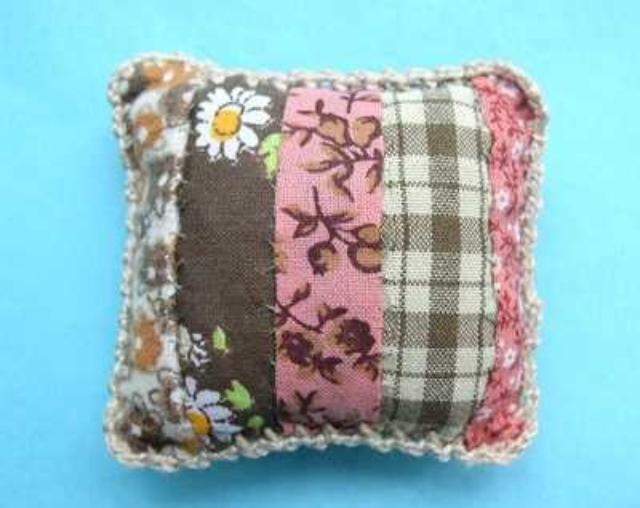pillow: (103, 50, 549, 472)
